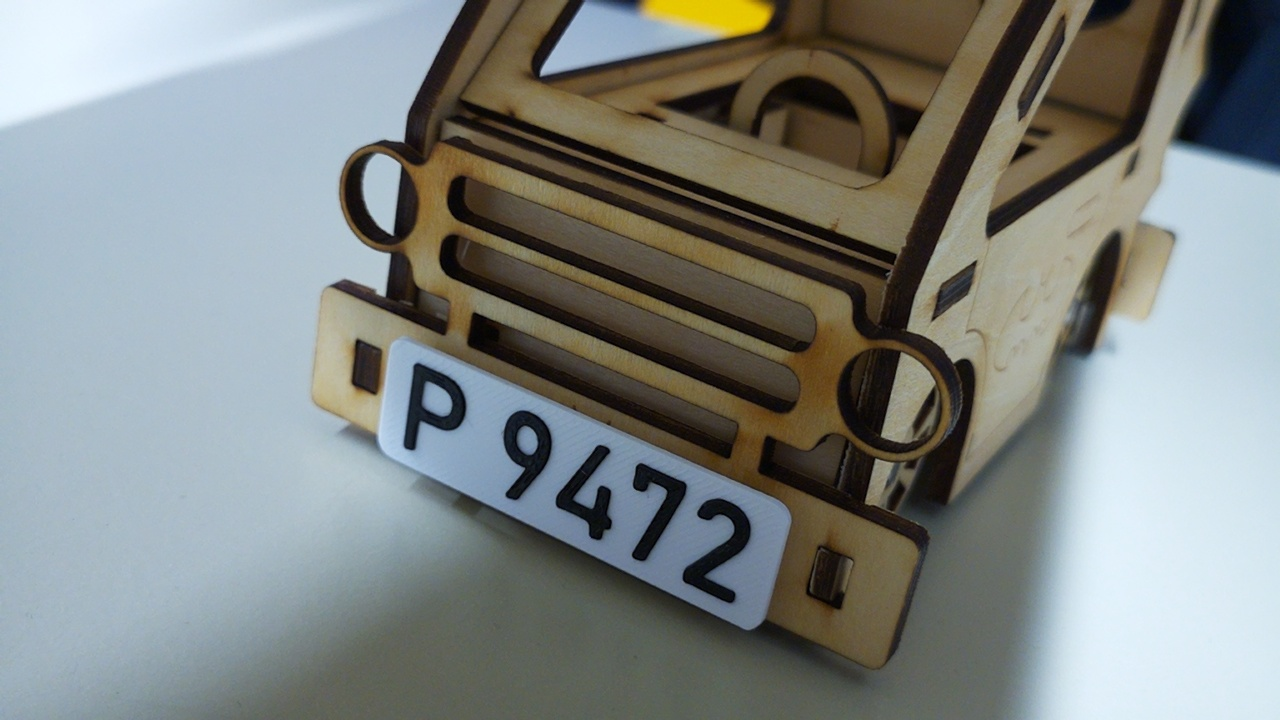license_plate: (376, 335, 796, 635)
